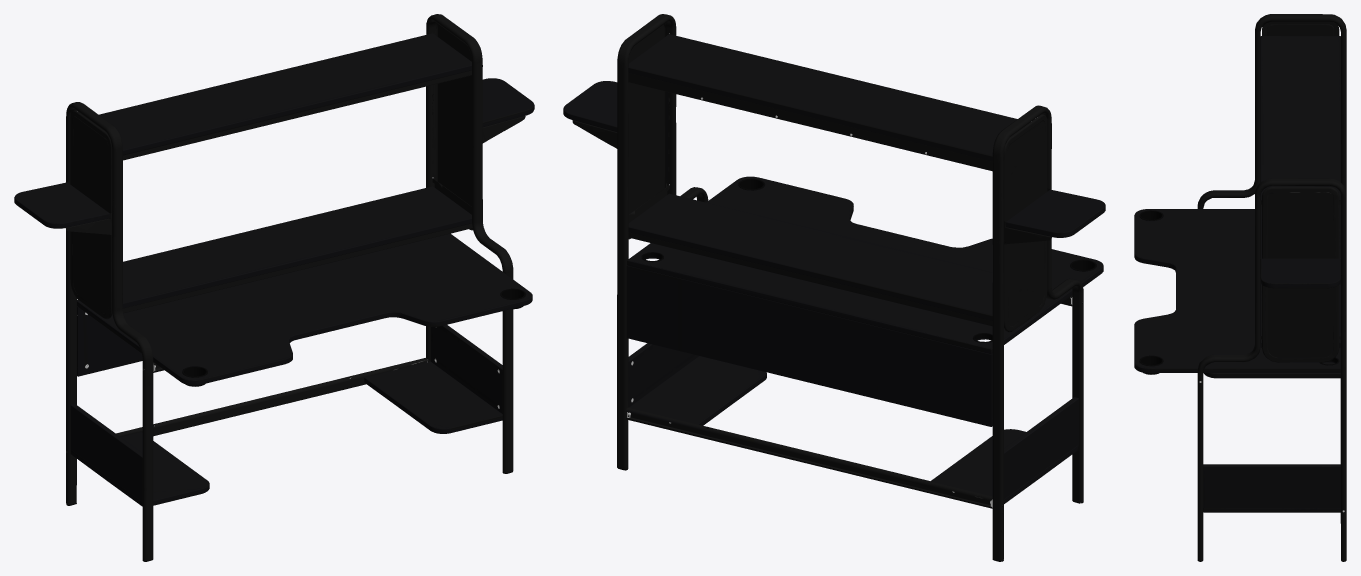
File: FREDDE_50219044.glb
3 views of the same model, side by side, from view 1: azimuth 30°, elevation 25°; view 2: azimuth 150°, elevation 25°; view 3: azimuth 270°, elevation 25° (orthographic). The views are drawn at different scales.
Visible parts, largest first — view 1: model; view 2: model; view 3: model.
Part boxes in pixels (bbox=[...]): model: bbox=[14, 14, 534, 561]; model: bbox=[563, 14, 1105, 561]; model: bbox=[1134, 14, 1346, 561].
Size of the model in its own units: 1.84 by 1.47 by 0.7412.
1 material, 1 textured.
